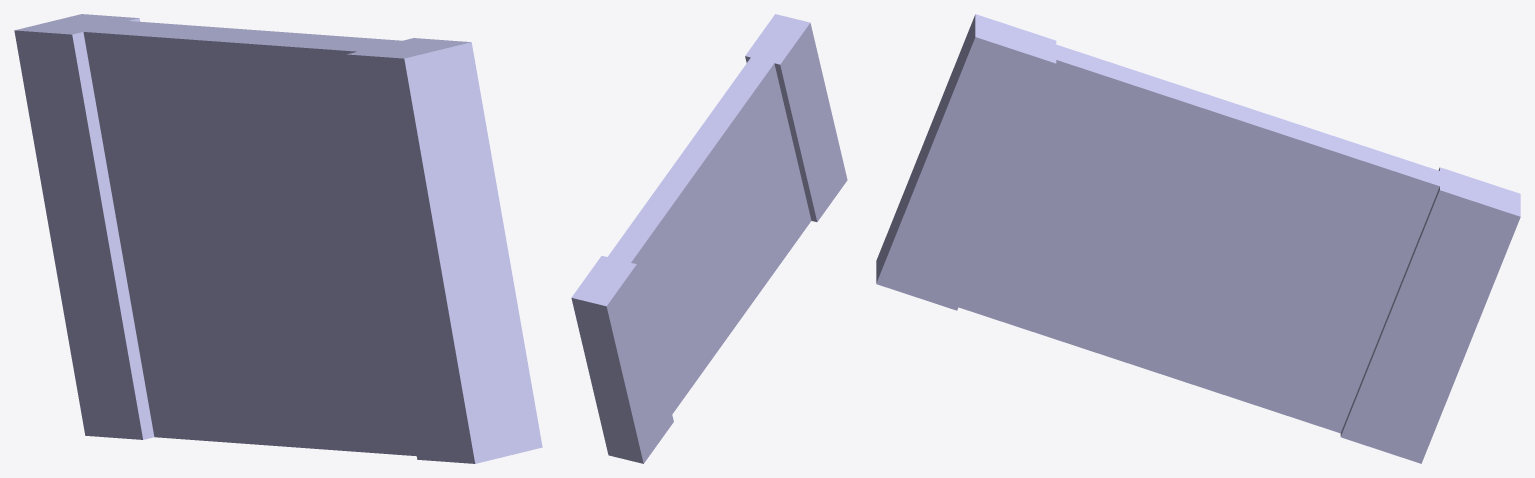
The model's file is EBoxNewAsm_stp_1_IMC413_1_stp_1_IMC413_1_41_stp_1_solid1.obj.
3 renders of one model, left to right at view 1: azimuth 30°, elevation 25°; view 2: azimuth 150°, elevation 25°; view 3: azimuth 270°, elevation 25°, orthographic. The views are drawn at different scales.
Visible parts, largest first — view 1: mesh9926, mesh9920, mesh9919, mesh9931, mesh9928, mesh9930; view 2: mesh9926, mesh9928, mesh9931, mesh9919, mesh9929, mesh9918; view 3: mesh9923, mesh9921, mesh9925, mesh9928, mesh9920.
Part boxes in pixels (x1=…): mesh9926: x1=83, y1=32, x2=416, y2=456; mesh9920: x1=404, y1=42, x2=542, y2=463; mesh9919: x1=346, y1=54, x2=475, y2=463; mesh9931: x1=14, y1=30, x2=142, y2=439; mesh9928: x1=15, y1=14, x2=471, y2=58; mesh9930: x1=72, y1=32, x2=154, y2=439; mesh9926: x1=631, y1=64, x2=811, y2=413; mesh9928: x1=571, y1=14, x2=809, y2=306; mesh9931: x1=606, y1=264, x2=673, y2=463; mesh9919: x1=780, y1=23, x2=847, y2=221; mesh9929: x1=571, y1=298, x2=643, y2=463; mesh9918: x1=774, y1=63, x2=816, y2=221; mesh9923: x1=958, y1=60, x2=1439, y2=433; mesh9921: x1=876, y1=37, x2=1055, y2=310; mesh9925: x1=1341, y1=190, x2=1520, y2=463; mesh9928: x1=975, y1=14, x2=1520, y2=216; mesh9920: x1=876, y1=15, x2=975, y2=282.
Bounding box in the file's own units: 0.0006 × 0.0052 × 0.00711.
